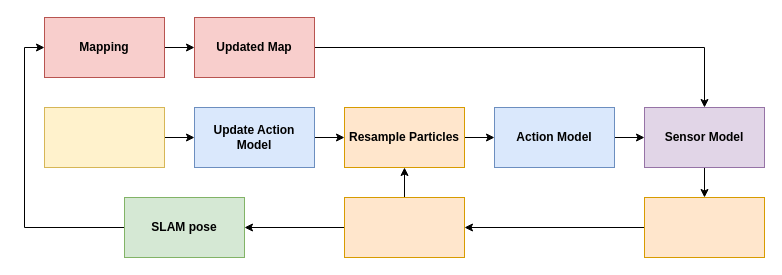
This 782x275 diagram has some shape labels left out. The box of each missing label's shape, as (x1, y1, x2, y2) in pixels:
Odometry: (44, 106, 164, 168)
Posterior Particle Distribution: (344, 196, 464, 258)
Updated Particle Weights: (644, 196, 764, 258)
